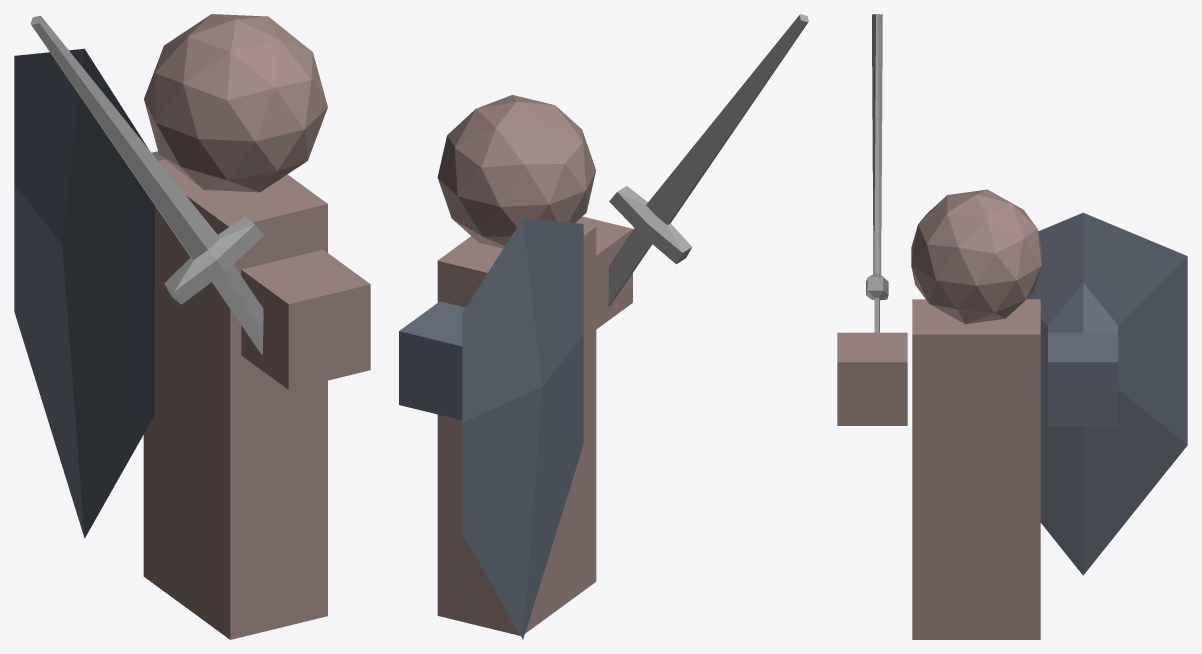
Rendered from warrior.glb.
3 renders of one model, left to right at view 1: azimuth 30°, elevation 25°; view 2: azimuth 150°, elevation 25°; view 3: azimuth 270°, elevation 25°, orthographic. The views are drawn at different scales.
Parts seen in each view (by area): view 1: Warrior; view 2: Warrior; view 3: Warrior.
Part boxes in pixels (x1=…): Warrior: x1=14, y1=14, x2=370, y2=639; Warrior: x1=399, y1=14, x2=808, y2=639; Warrior: x1=837, y1=14, x2=1187, y2=639.
Bounding box in the file's own units: 1.56 × 2.94 × 1.82.
